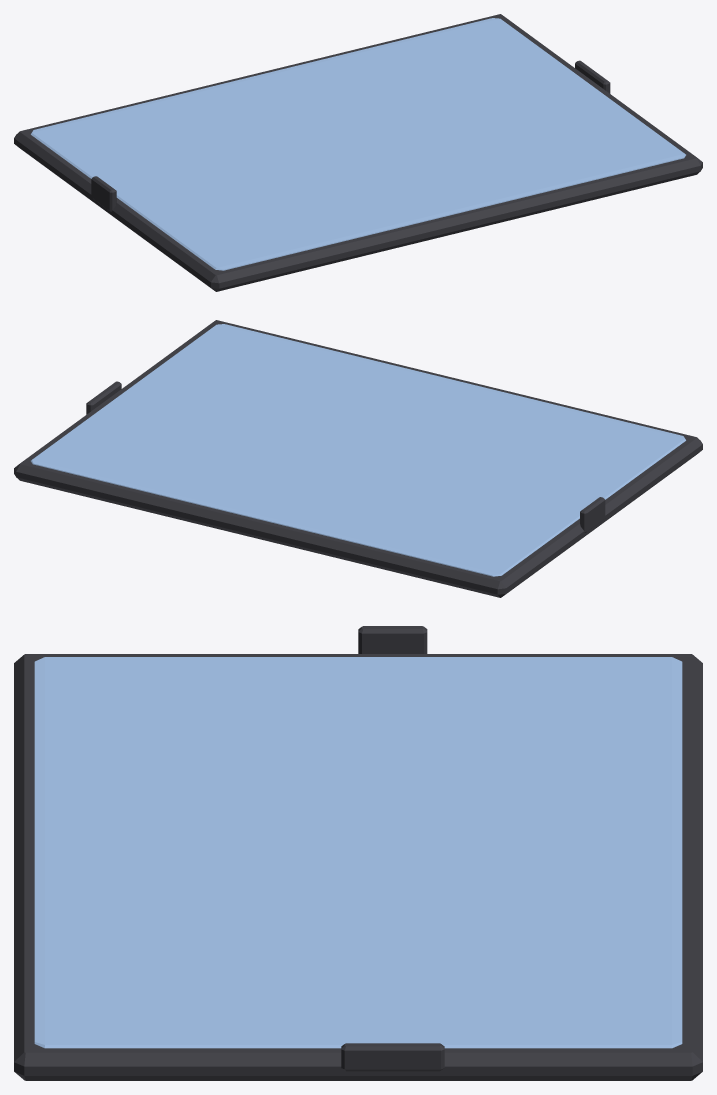
Rendered from computers-and-desk-gadgets-tablet-13-pro-21268870__38845.glb.
3 views of the same model, one above another, from view 1: azimuth 30°, elevation 25°; view 2: azimuth 150°, elevation 25°; view 3: azimuth 270°, elevation 25° (orthographic). The views are drawn at different scales.
Parts seen in each view (by area): view 1: tablet-13-pro; view 2: tablet-13-pro; view 3: tablet-13-pro.
Part boxes in pixels (left/top/right/bottom): tablet-13-pro: left=14, top=14, right=702, bottom=291; tablet-13-pro: left=14, top=320, right=702, bottom=597; tablet-13-pro: left=14, top=626, right=702, bottom=1080.
Bounding box in the file's own units: 0.282 × 0.0223 × 0.2.
